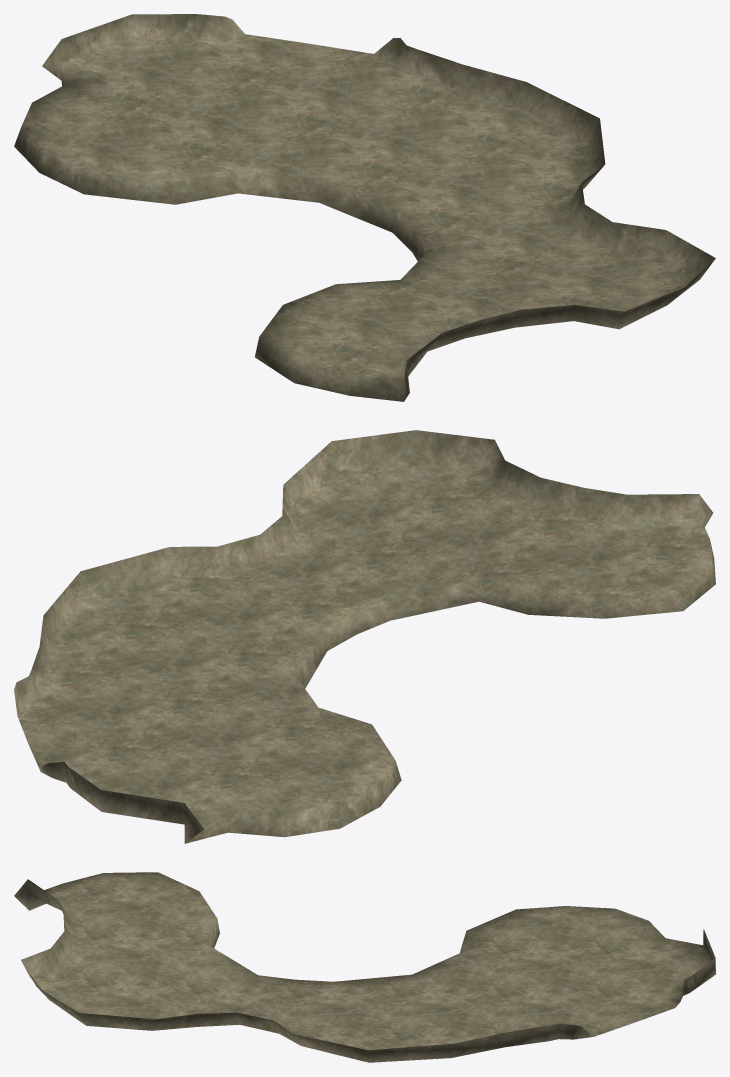
File: OVERHILL_A_01_OBJECT213.fbx
3 renders of one model, top to bottom at view 1: azimuth 30°, elevation 25°; view 2: azimuth 150°, elevation 25°; view 3: azimuth 270°, elevation 25°, orthographic. The views are drawn at different scales.
Visible parts, largest first — view 1: OVERHILL_A_01_OBJECT213; view 2: OVERHILL_A_01_OBJECT213; view 3: OVERHILL_A_01_OBJECT213.
Boxes of the visible parts, bbox=[...] form: OVERHILL_A_01_OBJECT213: bbox=[14, 14, 715, 401]; OVERHILL_A_01_OBJECT213: bbox=[14, 430, 715, 843]; OVERHILL_A_01_OBJECT213: bbox=[14, 872, 715, 1062].
Size of the model in its own units: 83899 by 10176 by 136747.
Materials: 1 (1 with a texture image).
